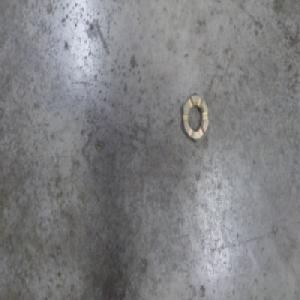Nut: (181, 91, 209, 144)
